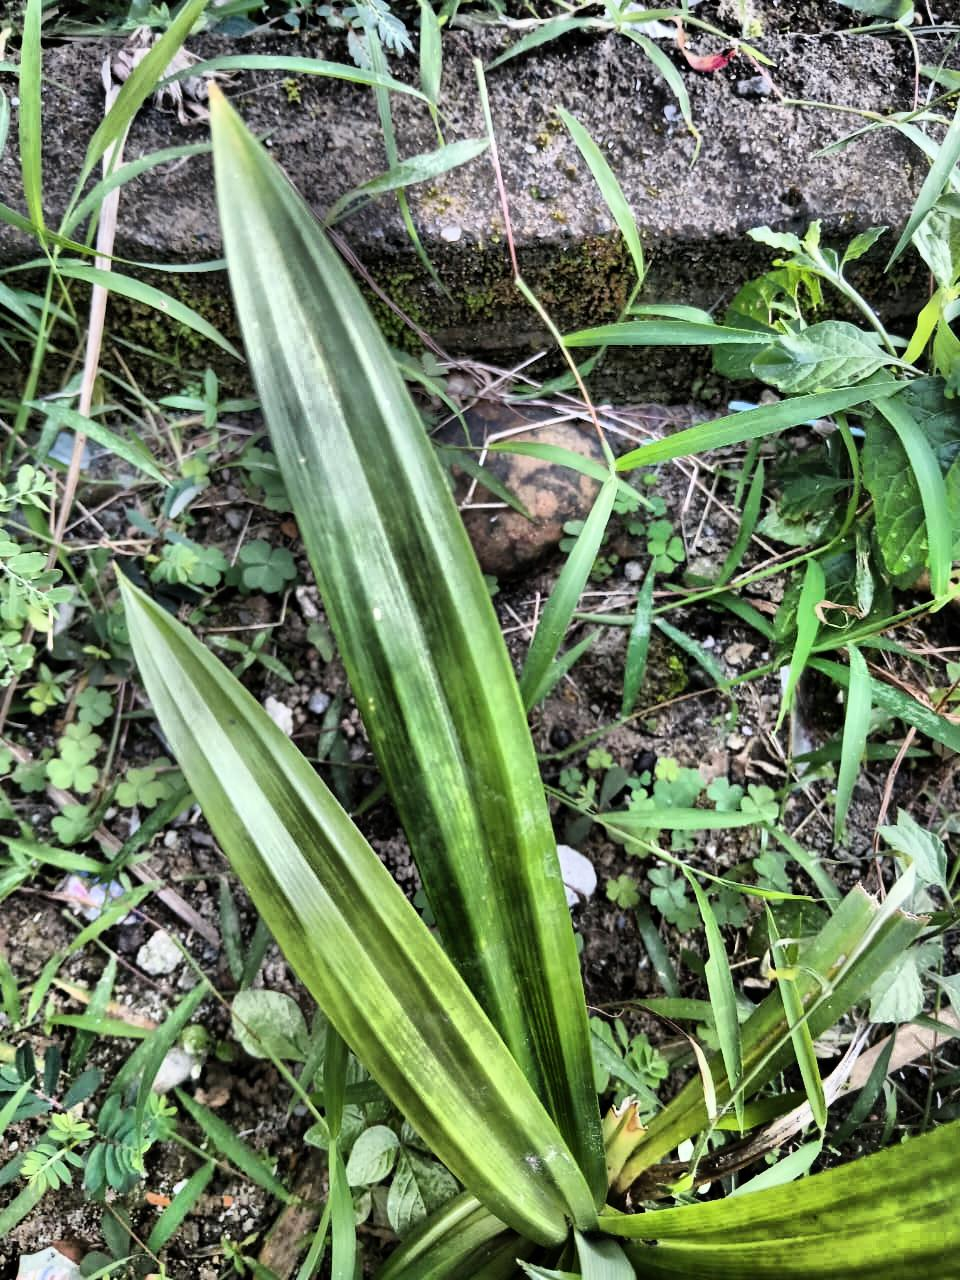daun pandan: (120, 88, 959, 1279), (743, 871, 924, 1085)
